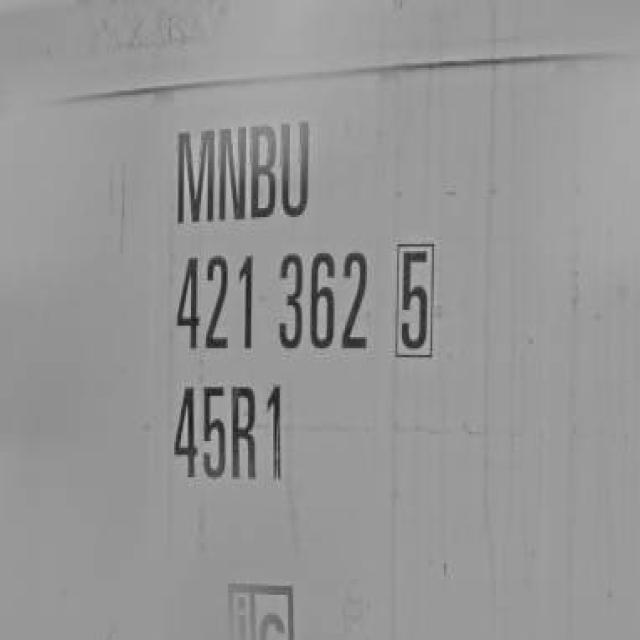dv: (389, 237, 444, 365)
owner: (164, 110, 321, 225)
serial: (164, 244, 382, 361)
size: (158, 362, 302, 489)
